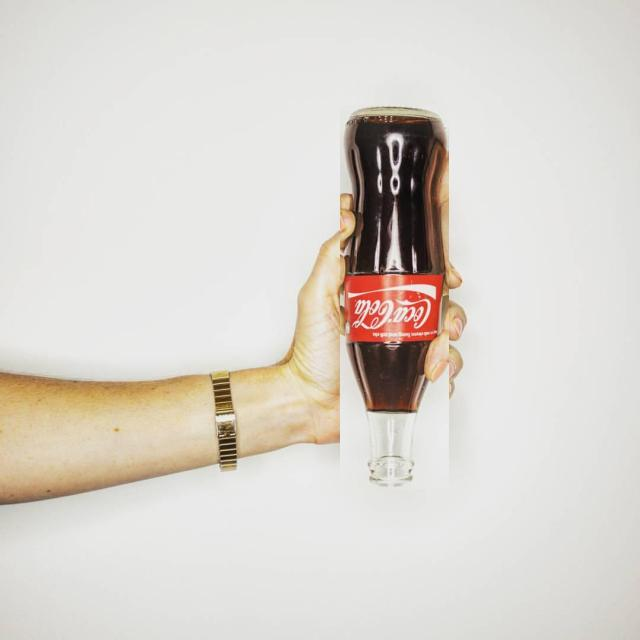coca-cola: (340, 105, 449, 489)
